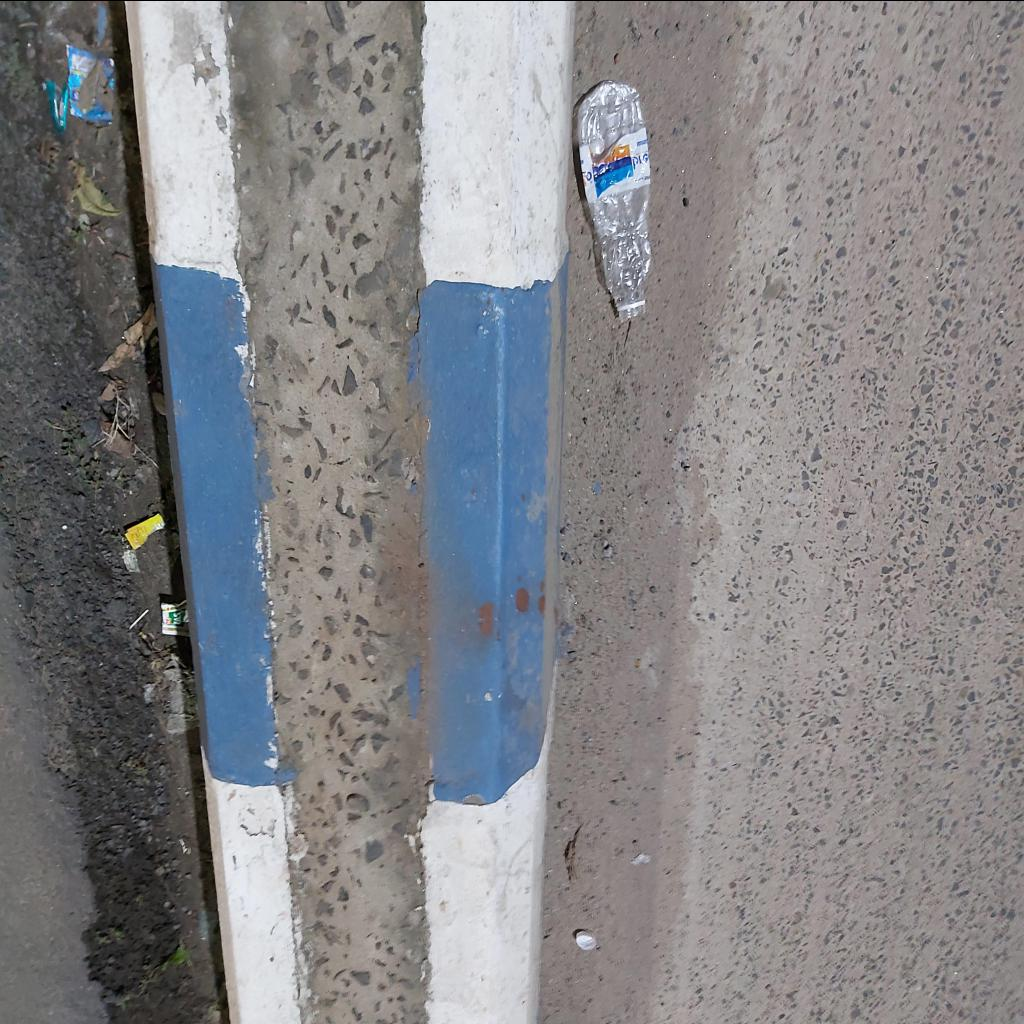Clear plastic bottle: (578, 80, 652, 320)
Other plastic: (67, 46, 115, 122), (125, 512, 165, 550), (42, 80, 68, 136), (161, 600, 190, 635)
Plastic bottle cap: (576, 929, 596, 949)
